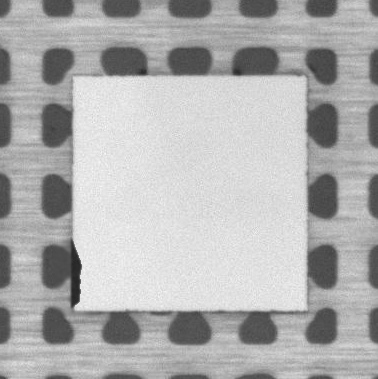DIE_BROKEN: (68, 242, 84, 315)
